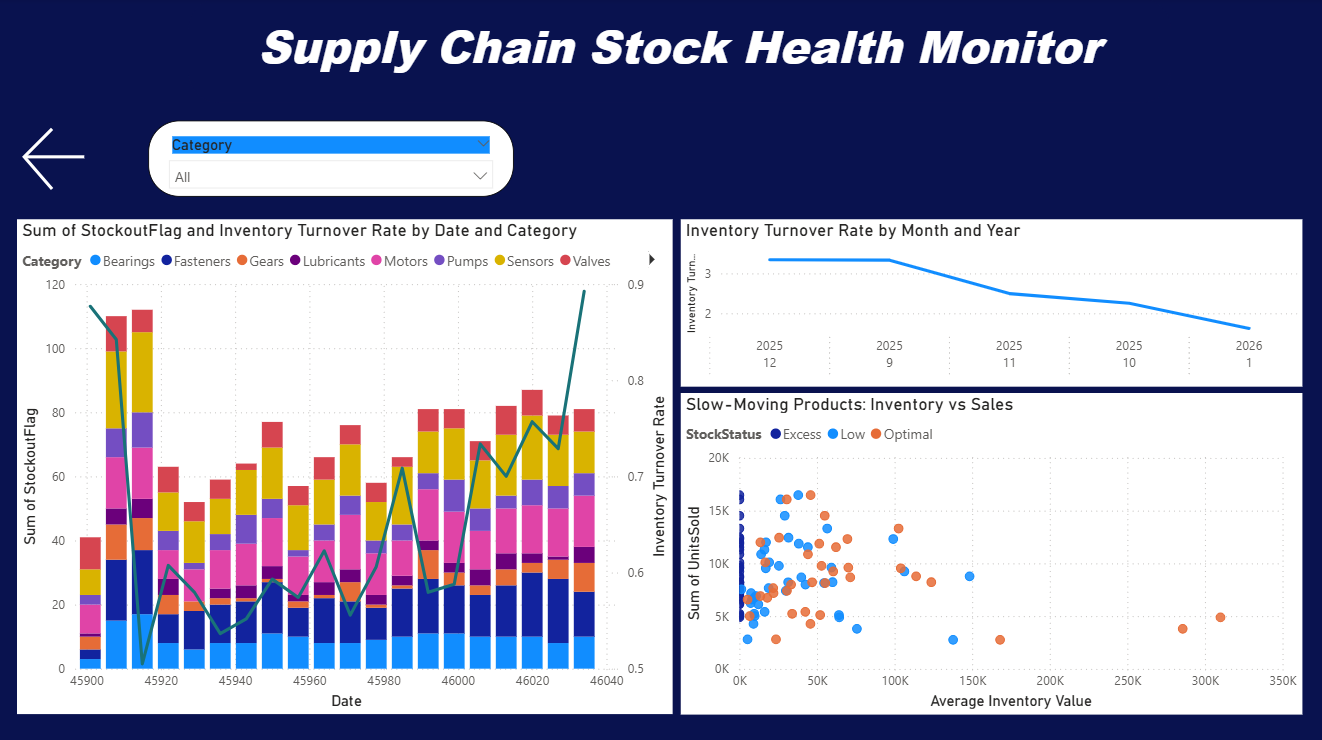

What the dashboard file says about the page in this screenshot:
{"tool":"powerbi","page":{"name":"Page 2","canvas":[1280,720],"ordinal":1},"visuals":[{"type":"lineChart","fields":{"Category":["DimDate.Month","DimDate.Year"],"Y":["FactSales.Inventory Turnover Rate"]},"box":[660,213.8,600,161.2],"z":0},{"type":"scatterChart","title":"Slow-Moving Products: Inventory vs Sales","fields":{"X":["FactInventorySnapshot.Average Inventory Value"],"Y":["Sum(FactSales.UnitsSold)"],"Category":["DimProduct.ProductName"],"Series":["FactInventorySnapshot.StockStatus"]},"box":[660,381.2,600,310],"z":1000},{"type":"slicer","fields":{"Values":["DimProduct.Category"]},"box":[146.2,118.8,352.5,73.8],"z":2000},{"type":"lineStackedColumnComboChart","fields":{"Category":["DimDate.Date"],"Y":["Sum(FactInventorySnapshot.StockoutFlag)"],"Series":["DimProduct.Category"],"Y2":["FactSales.Inventory Turnover Rate"]},"box":[18.8,213.8,632.5,477.5],"z":3000},{"type":"textbox","box":[185,0,948.8,101.2],"z":4000},{"type":"actionButton","box":[18.6,118.6,100,74.3],"z":5000}]}

Visuals, with their boxes in screenshot pixels (x1, y1, x2, y2), scaled from the page's 1280x720 canvas onto the 1322x740 screenshot:
lineChart - DimDate.Month x DimDate.Year: 682,220,1301,385
"Slow-Moving Products: Inventory vs Sales" scatterChart: 682,392,1301,710
slicer - DimProduct.Category: 151,122,515,198
lineStackedColumnComboChart - DimDate.Date x Sum(FactInventorySnapshot.StockoutFlag): 19,220,673,711
textbox: 191,0,1171,104
actionButton: 19,122,122,198
